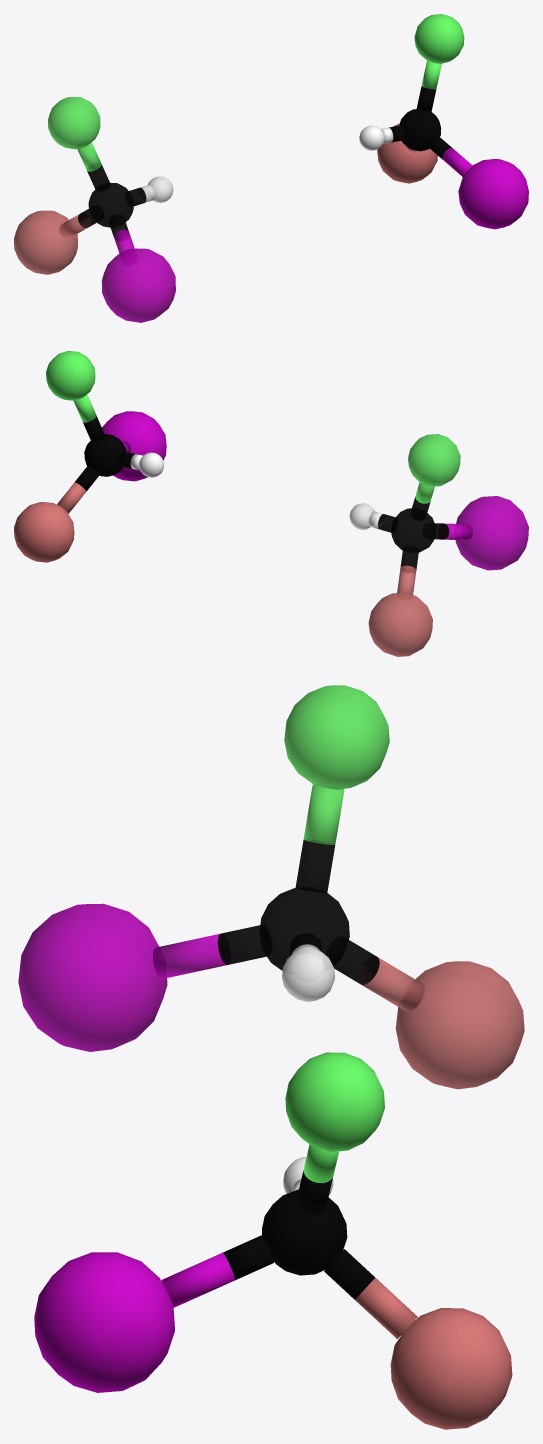
Rendered from enantiomers_of_bromochloroiodomethane.glb.
The picture shows the model from 3 angles, top to bottom: view 1: azimuth 30°, elevation 25°; view 2: azimuth 150°, elevation 25°; view 3: azimuth 270°, elevation 25°; orthographic projection. The views are drawn at different scales.
Parts seen in each view (by area): view 1: subnode_0_5, subnode_0.002_0; view 2: subnode_0_5, subnode_0.002_0; view 3: subnode_0_5, subnode_0.002_0.
Part boxes in pixels (x1=…): subnode_0_5: x1=14, y1=96, x2=175, y2=322; subnode_0.002_0: x1=359, y1=14, x2=528, y2=229; subnode_0_5: x1=349, y1=434, x2=528, y2=656; subnode_0.002_0: x1=14, y1=351, x2=166, y2=562; subnode_0_5: x1=18, y1=685, x2=524, y2=1089; subnode_0.002_0: x1=34, y1=1052, x2=512, y2=1429.
Size of the model in its own units: 9.56 by 4.25 by 4.98.
